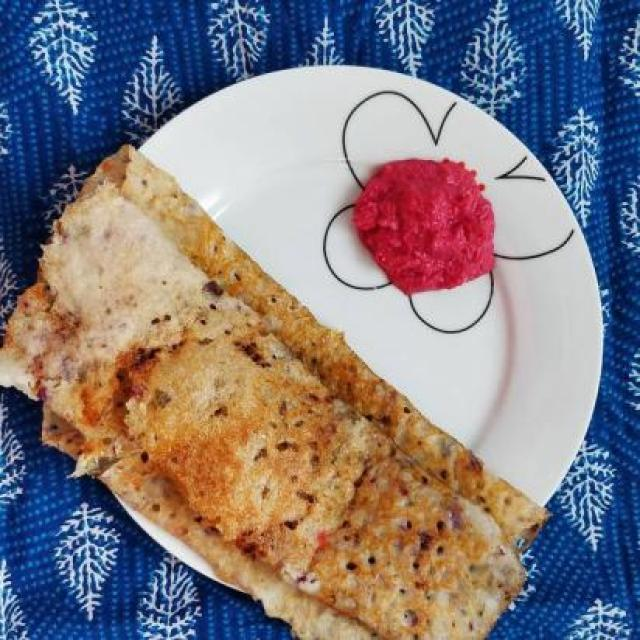dosa: (0, 177, 528, 640), (77, 142, 551, 560)
